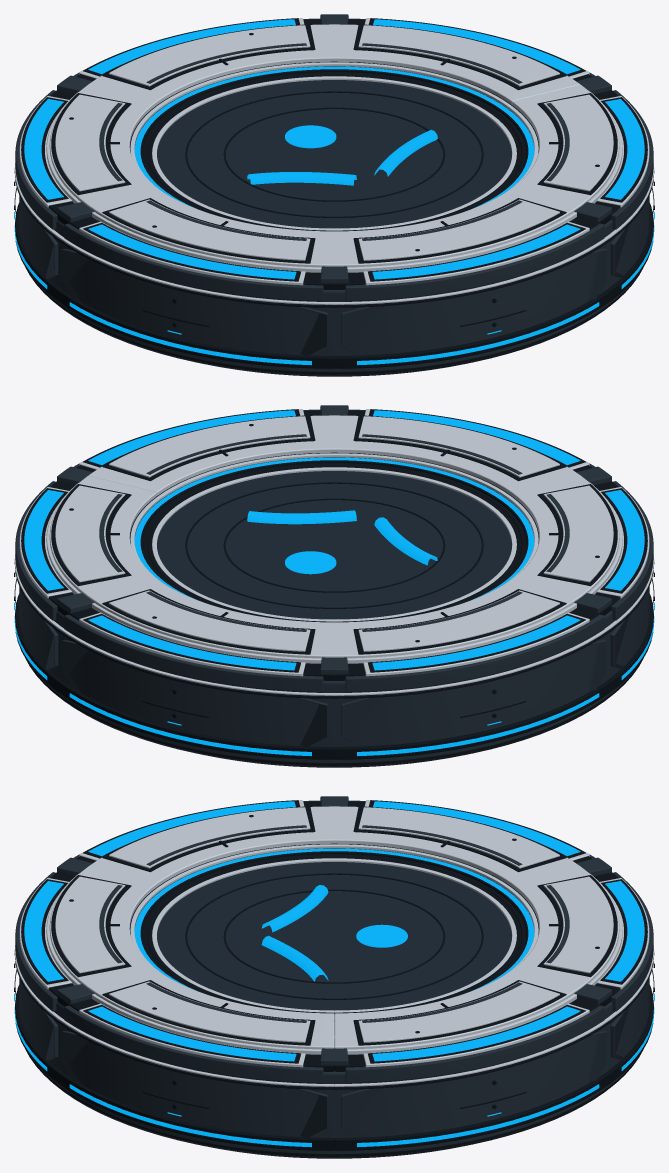
File: Bouncer.glb
3 renders of one model, top to bottom at view 1: azimuth 30°, elevation 25°; view 2: azimuth 150°, elevation 25°; view 3: azimuth 270°, elevation 25°, orthographic.
Visible parts, largest first — view 1: SM_Puck_Bouncer; view 2: SM_Puck_Bouncer; view 3: SM_Puck_Bouncer.
Part boxes in pixels (bbox=[...]): SM_Puck_Bouncer: bbox=[14, 14, 654, 376]; SM_Puck_Bouncer: bbox=[14, 405, 654, 767]; SM_Puck_Bouncer: bbox=[14, 796, 654, 1158].
Size of the model in its own units: 0.8631 by 0.1614 by 0.8651.
